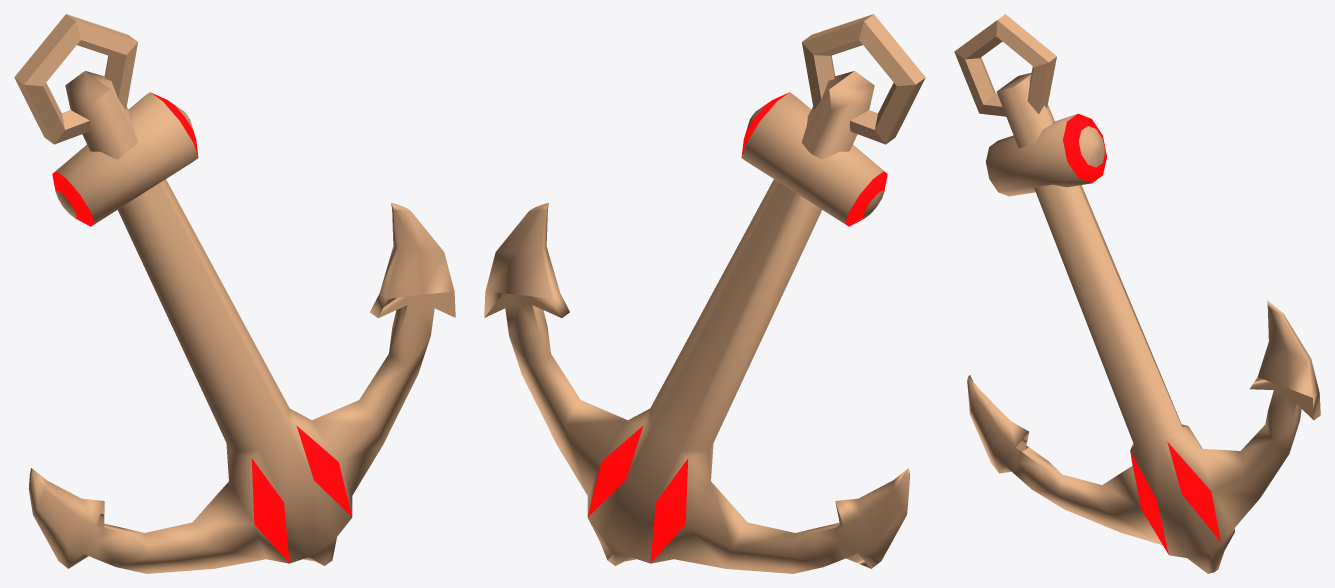
The model's file is track7Trap.glb.
3 renders of one model, left to right at view 1: azimuth 30°, elevation 25°; view 2: azimuth 150°, elevation 25°; view 3: azimuth 330°, elevation 25°, orthographic. The views are drawn at different scales.
Visible parts, largest first — view 1: track7Trap; view 2: track7Trap; view 3: track7Trap.
Part boxes in pixels (box(x1,y1,x2,y2)): track7Trap: box(14, 14, 455, 573); track7Trap: box(484, 14, 925, 573); track7Trap: box(954, 14, 1320, 573).
Bounding box in the file's own units: 0.7259 × 0.9752 × 0.125.
